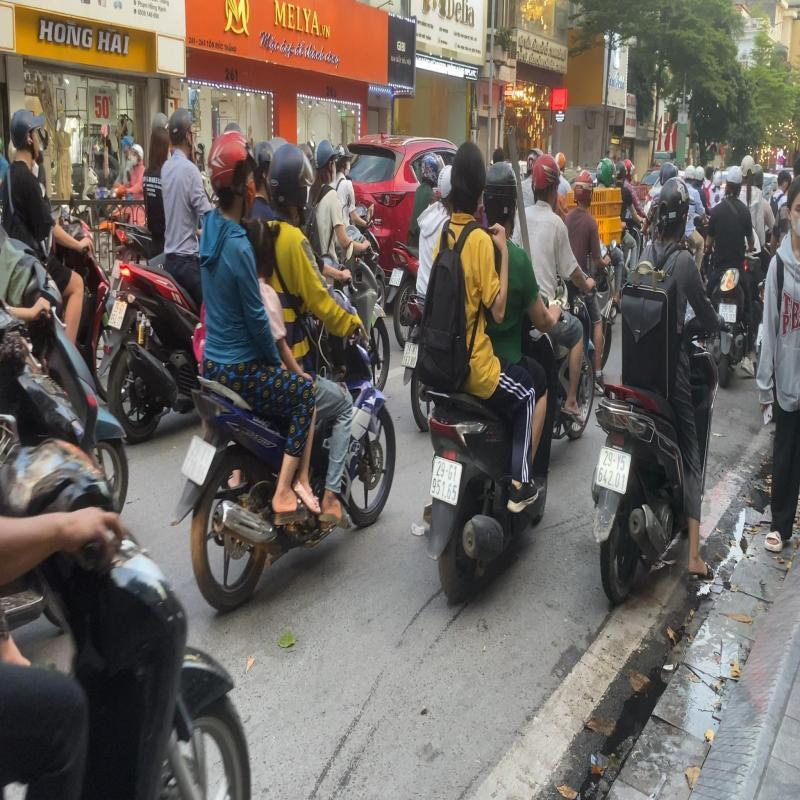nohelmet: (446, 139, 488, 214)
